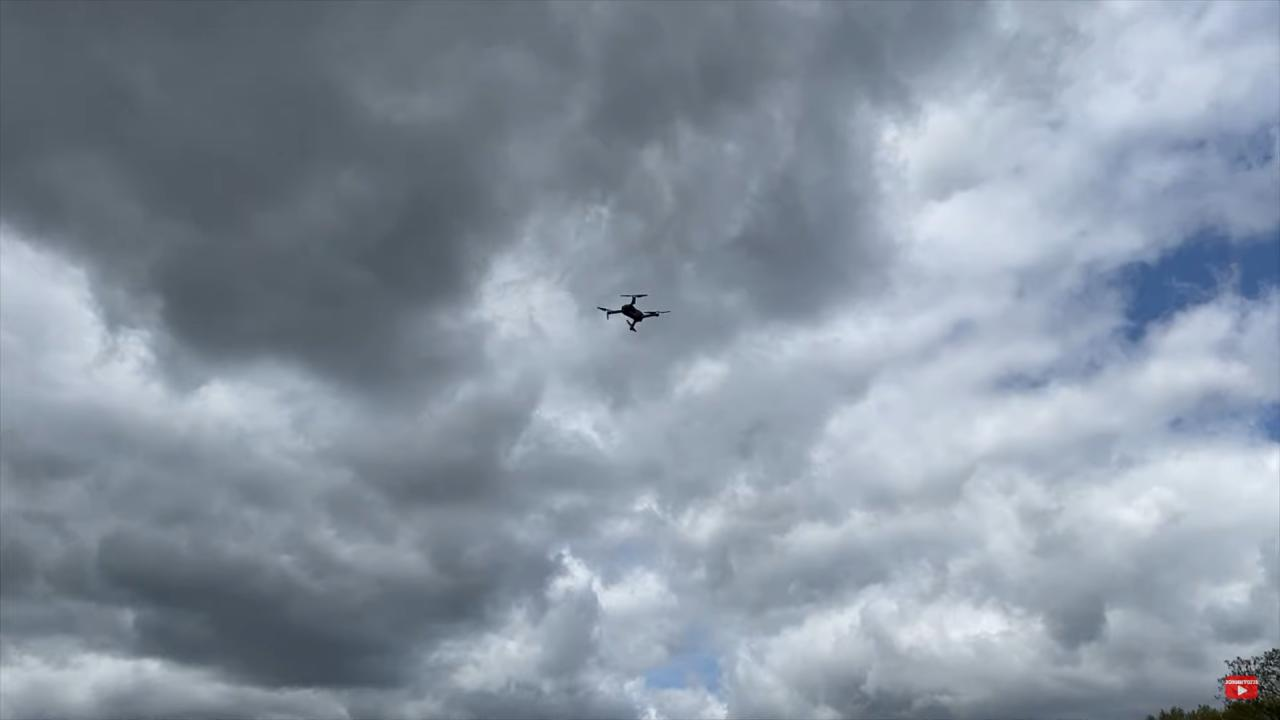Drone: (592, 288, 677, 340)
